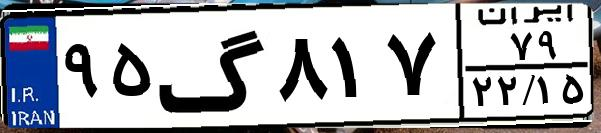1: (330, 28, 385, 110), (535, 70, 560, 125)
2: (470, 70, 495, 125), (495, 70, 520, 125)
5: (110, 28, 156, 98), (560, 70, 590, 125)
7: (385, 28, 445, 110), (508, 27, 537, 80)
8: (270, 28, 330, 110)
9: (57, 26, 110, 100), (537, 27, 568, 80)
گ: (156, 12, 270, 120)
